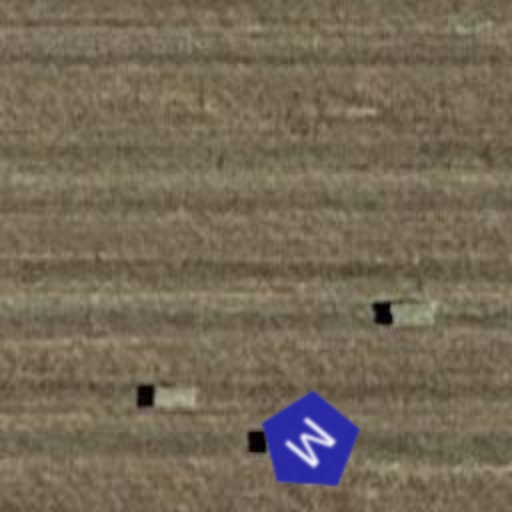pentagon: (236, 366, 384, 512)
